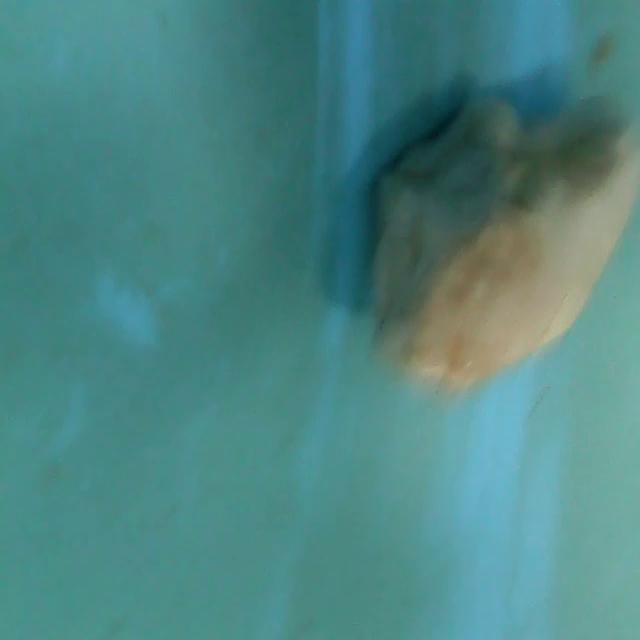rock: (364, 84, 640, 394)
